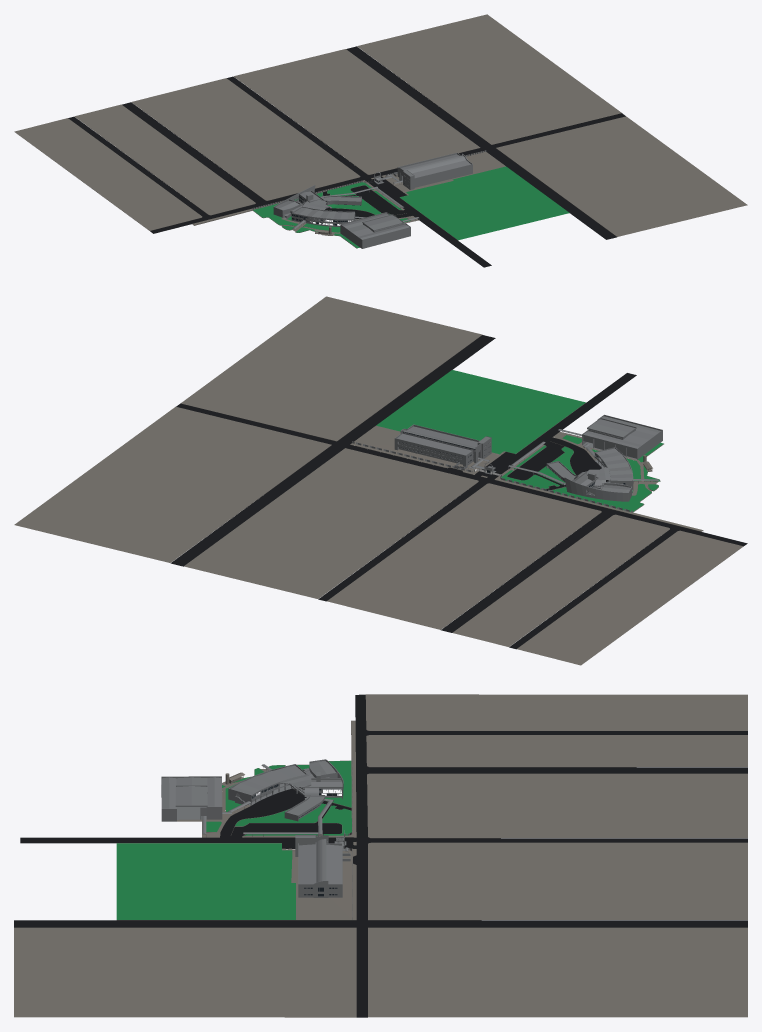
The model's file is campus_exterior_recovered_from_phone.glb.
3 views of the same model, one above another, from view 1: azimuth 30°, elevation 25°; view 2: azimuth 150°, elevation 25°; view 3: azimuth 270°, elevation 25° (orthographic). The views are drawn at different scales.
Parts seen in each view (by area): view 1: calcada_rua, grama, rua, bloco_central, rua_if, bloco_didatico, Plano, chao_if; view 2: calcada_rua, rua, grama, rua_if, chao_if, bloco_central, bloco_didatico, Plano; view 3: calcada_rua, grama, rua, rua_if, chao_if, bloco_central, bloco_didatico, Plano, canaleta, chao_if_2.
Part boxes in pixels (bbox=[...]): calcada_rua: bbox=[14, 14, 747, 236]; grama: bbox=[253, 166, 569, 248]; rua: bbox=[68, 46, 625, 239]; bloco_central: bbox=[273, 185, 361, 226]; rua_if: bbox=[323, 176, 491, 267]; bloco_didatico: bbox=[393, 152, 472, 189]; Plano: bbox=[340, 212, 410, 248]; chao_if: bbox=[192, 151, 505, 248]; calcada_rua: bbox=[14, 296, 743, 665]; rua: bbox=[170, 335, 747, 649]; grama: bbox=[376, 370, 663, 511]; rua_if: bbox=[475, 373, 636, 490]; chao_if: bbox=[350, 403, 703, 531]; bloco_central: bbox=[546, 447, 633, 501]; bloco_didatico: bbox=[394, 424, 491, 468]; Plano: bbox=[582, 414, 662, 459]; calcada_rua: bbox=[14, 694, 747, 1017]; grama: bbox=[116, 760, 351, 919]; rua: bbox=[14, 694, 747, 1017]; rua_if: bbox=[20, 788, 356, 848]; chao_if: bbox=[117, 720, 356, 920]; bloco_central: bbox=[228, 759, 343, 821]; bloco_didatico: bbox=[295, 835, 350, 897]; Plano: bbox=[161, 776, 222, 821]; canaleta: bbox=[202, 764, 348, 851]; chao_if_2: bbox=[177, 769, 268, 837].
Size of the model in its own units: 625 by 20.39 by 597.
Materials: 6 (1 with a texture image).
